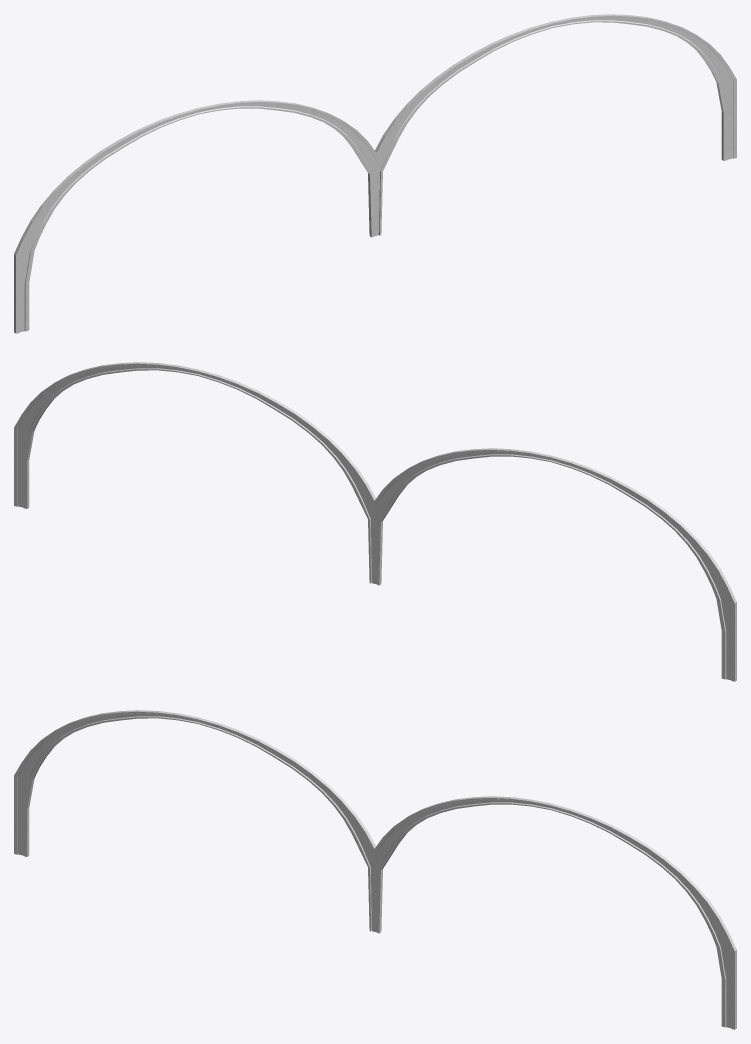
The model's file is ceilingframe_F_001.fbx.
3 views of the same model, one above another, from view 1: azimuth 30°, elevation 25°; view 2: azimuth 150°, elevation 25°; view 3: azimuth 330°, elevation 25° (orthographic).
Visible parts, largest first — view 1: ceilingframe_F_001; view 2: ceilingframe_F_001; view 3: ceilingframe_F_001.
Part boxes in pixels (left/top/right/bottom): ceilingframe_F_001: left=14, top=14, right=736, bottom=333; ceilingframe_F_001: left=14, top=362, right=736, bottom=681; ceilingframe_F_001: left=14, top=710, right=736, bottom=1029.
Size of the model in its own units: 4508 by 1073 by 23.07.
1 material, 1 textured.
